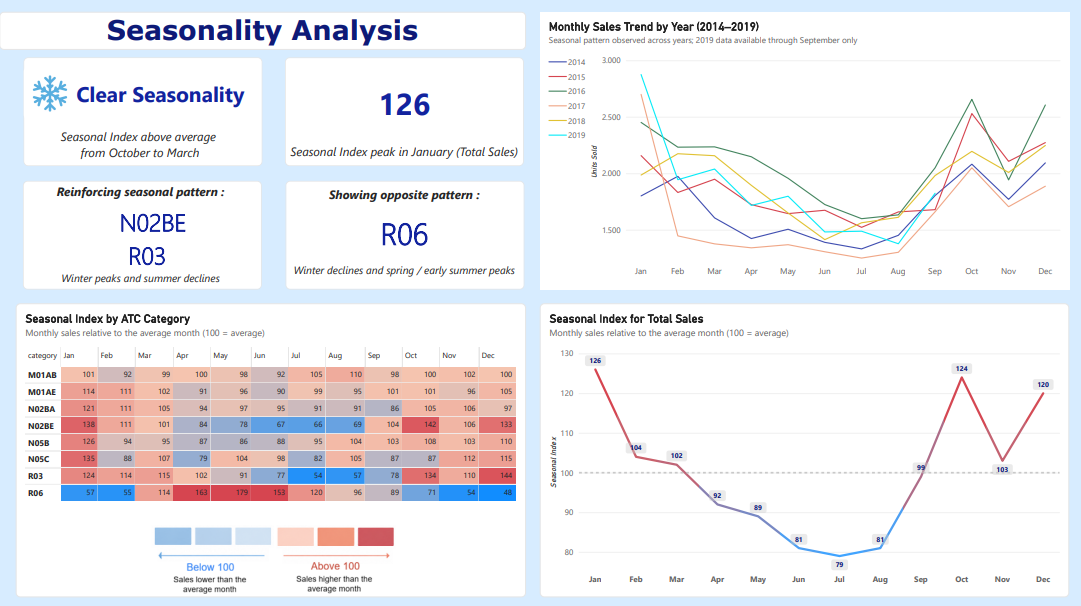

The page's visual inventory and layout, read from the dashboard file:
{"tool":"powerbi","page":{"name":"Seasonality Analysis","canvas":[1920,1080],"ordinal":1},"visuals":[{"type":"lineChart","title":"Monthly Sales Trend by Year (2014–2018)","fields":{"Category":["Query4.Month Short"],"Series":["Query4.year"],"Y":["Sum(Query4.total_sales)"]},"box":[10.9,0,998.2,540],"z":0},{"type":"pivotTable","title":"Seasonal Index by ATC Category","fields":{"Columns":["Query5.Month Short"],"Rows":["Query5.category"],"Values":["Sum(Query5.seasonal_index)"]},"box":[1043.6,614.5,876.4,412.7],"z":1},{"type":"lineChart","title":"Seasonal Index for Total Sales","fields":{"Category":["Query6.Month Short"],"Y":["Sum(Query6.seasonal_index)"]},"box":[0,563.6,1009.1,516.4],"z":2}]}

Visuals, with their boxes in screenshot pixels (x1, y1, x2, y2), scaled from the page's 1920x1080 canvas onto the 1081x606 screenshot:
"Monthly Sales Trend by Year (2014–2018)" lineChart: x1=6, y1=0, x2=568, y2=303
"Seasonal Index by ATC Category" pivotTable: x1=588, y1=345, x2=1080, y2=576
"Seasonal Index for Total Sales" lineChart: x1=0, y1=316, x2=568, y2=605
